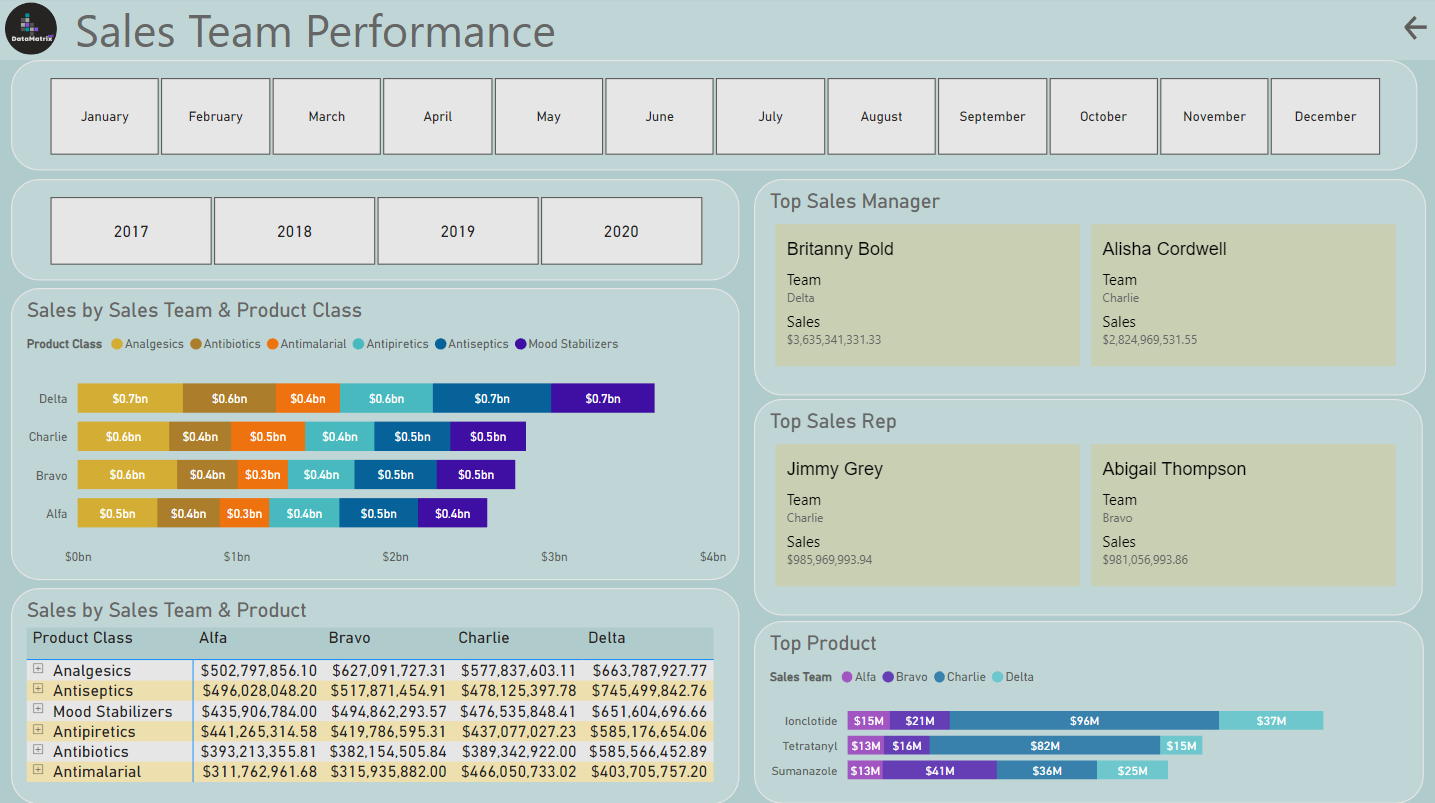

Layout of this report page (visuals, bound fields, positions):
{"tool":"powerbi","page":{"name":"Sales  Team Performance","canvas":[1280,720],"ordinal":3},"visuals":[{"type":"shape","box":[0,0,1280.4,55.9],"z":0},{"type":"barChart","title":"Sales by Sales Team & Product Class","fields":{"Y":["FACT-sales.Sales"],"Category":["DIM-sales-team.Sales Team"],"Series":["DIM-product.Product Class"]},"box":[13.3,258,645.5,258.9],"z":2000},{"type":"actionButton","box":[1244.9,12.4,29.3,30.1],"z":3000},{"type":"pivotTable","title":"Sales by Sales Team & Product","fields":{"Rows":["DIM-product.Product Class","DIM-product.Product Name"],"Values":["FACT-sales.Sales"],"Columns":["DIM-sales-team.Sales Team"]},"box":[13.3,524,645.5,191.5],"z":4000},{"type":"barChart","title":"Top Product","fields":{"Category":["DIM-product.Product Name","DIM-sales-team.Manager"],"Y":["FACT-sales.Sales"],"Series":["DIM-sales-team.Sales Team"]},"box":[672.1,553.3,594.1,162.3],"z":5000},{"type":"slicer","fields":{"Values":["FACT-sales.Year"]},"box":[13.3,161.4,645.5,90.4],"z":6000},{"type":"slicer","fields":{"Values":["DIM-month.Month"]},"box":[13.3,55.9,1246.7,97.5],"z":7000},{"type":"multiInfoCards9D184BB3D4E44A139DA08142D76EFD36","title":"Top Sales Manager","fields":{"informations":["DIM-sales-team.Sales Team","FACT-sales.Sales"],"title":["DIM-sales-team.Manager"]},"box":[672.1,161.4,595.9,192.4],"z":8000},{"type":"multiInfoCards9D184BB3D4E44A139DA08142D76EFD36","title":"Top Sales Rep","fields":{"informations":["DIM-sales-team.Sales Team","FACT-sales.Sales"],"title":["DIM-sales-rep.Sales Rep"]},"box":[672.1,356.5,593.2,192.4],"z":9000},{"type":"image","box":[0,0,61.2,55.9],"z":9001}]}

Visuals, with their boxes in screenshot pixels (x1, y1, x2, y2), scaled from the page's 1280x720 canvas onto the 1435x803 screenshot:
shape: box=[0, 0, 1434, 62]
"Sales by Sales Team & Product Class" barChart: box=[15, 288, 739, 576]
actionButton: box=[1396, 14, 1428, 47]
"Sales by Sales Team & Product" pivotTable: box=[15, 584, 739, 798]
"Top Product" barChart: box=[753, 617, 1420, 798]
slicer - FACT-sales.Year: box=[15, 180, 739, 281]
slicer - DIM-month.Month: box=[15, 62, 1413, 171]
"Top Sales Manager" multiInfoCards9D184BB3D4E44A139DA08142D76EFD36: box=[753, 180, 1422, 395]
"Top Sales Rep" multiInfoCards9D184BB3D4E44A139DA08142D76EFD36: box=[753, 398, 1419, 612]
image: box=[0, 0, 69, 62]
